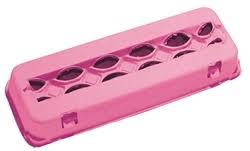Papier mache: (5, 7, 250, 147)
